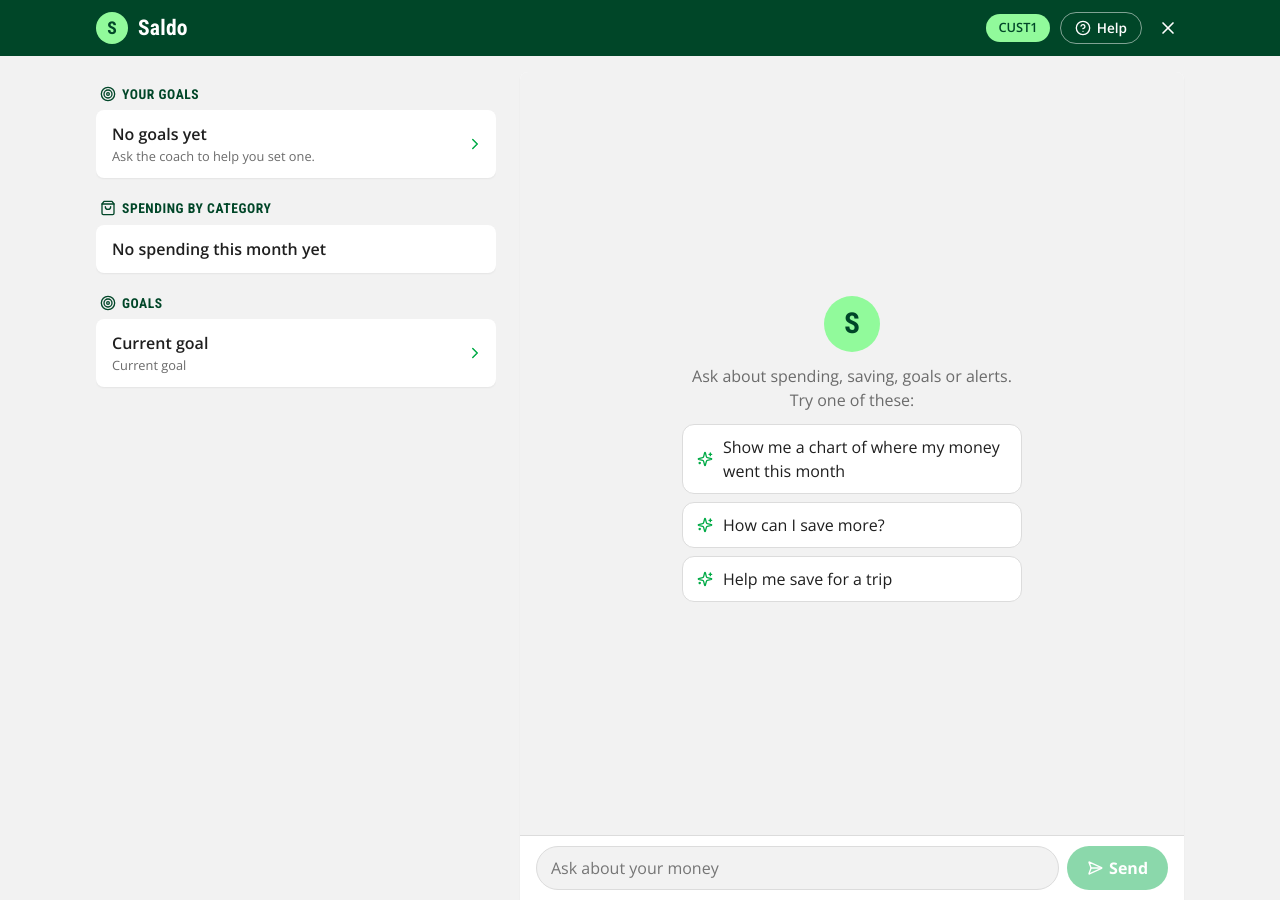
Test: does not refresh for a read-only reply
Check: the 1st text "Current goal" is shown, box [112,332,208,354]
Type "Hello" into the field at (798, 868), box [536,846,1059,890]
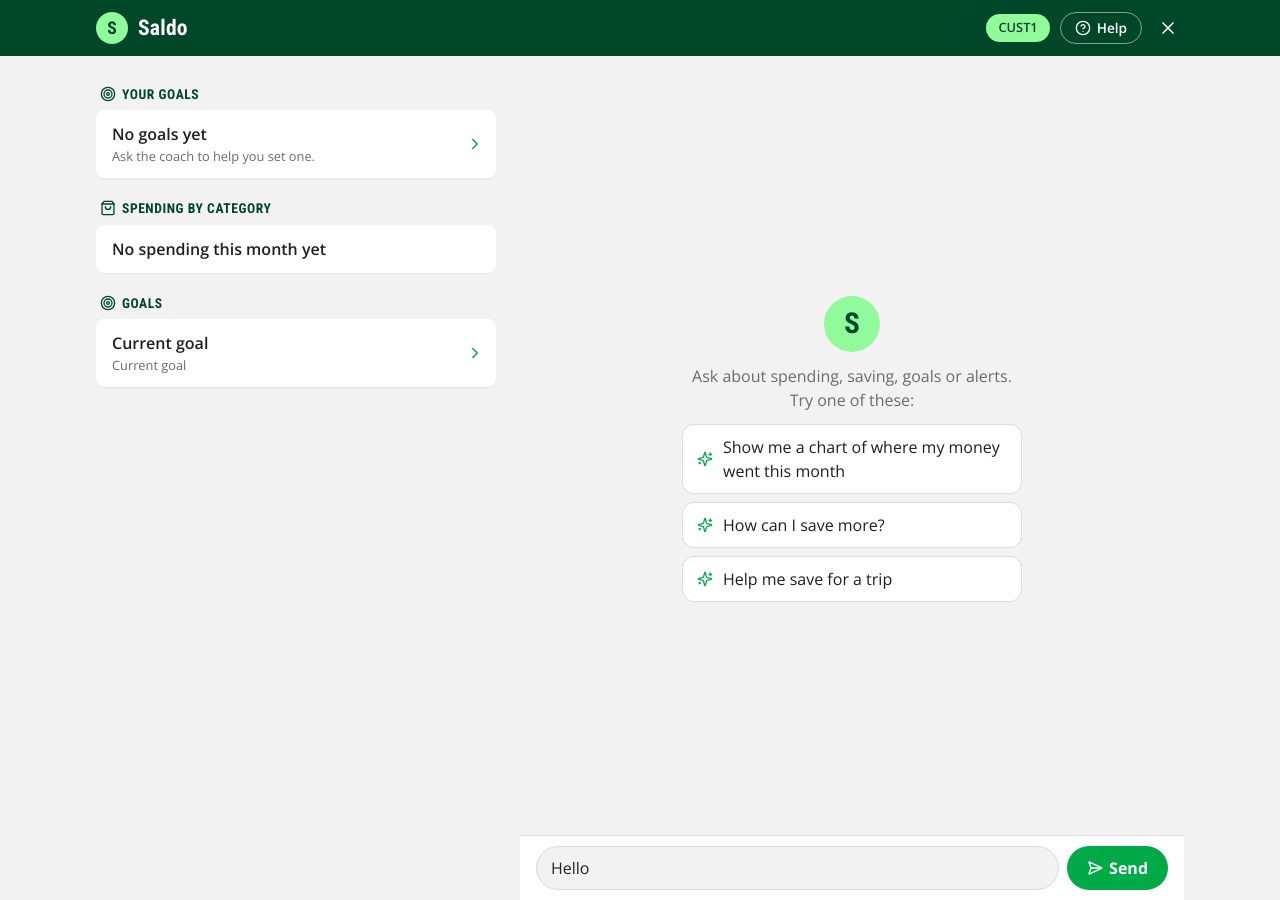
Click the button "Send" at (1118, 868), box [1067,846,1168,890]
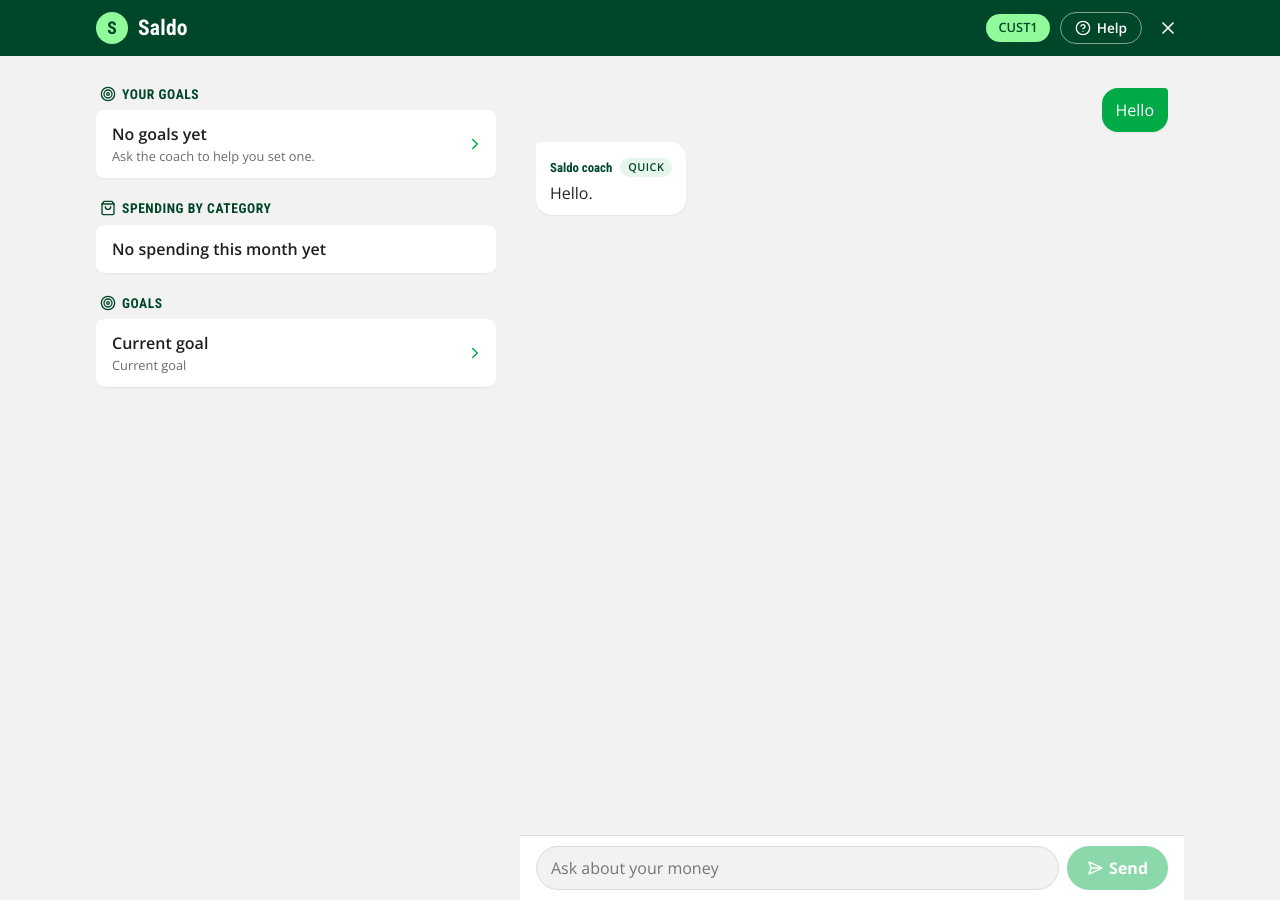
Check: the text "Hello." is shown, box [550,182,593,204]
